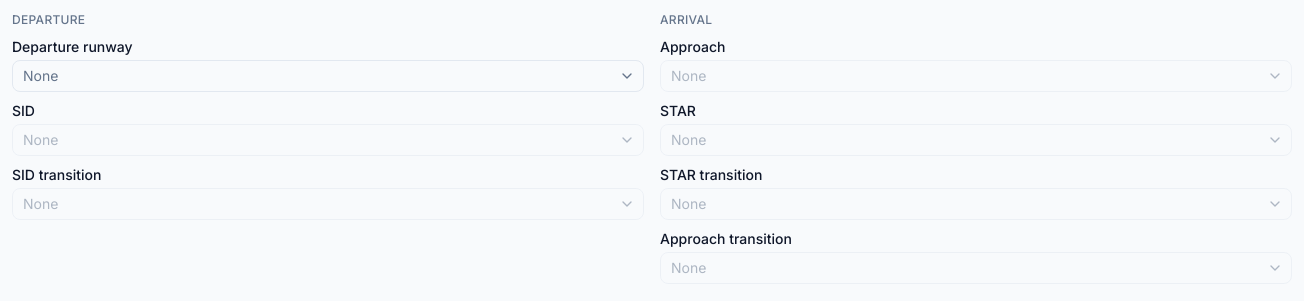
Test: ProcedureSelector › lists departure runways once loaded, and disables the field when there are none
What coordinates should you click on to do the following:
click the dropdown labelled "None" below "Departure runway"
I would click on:
 (41, 76)
Its box is [12,60,644,92].
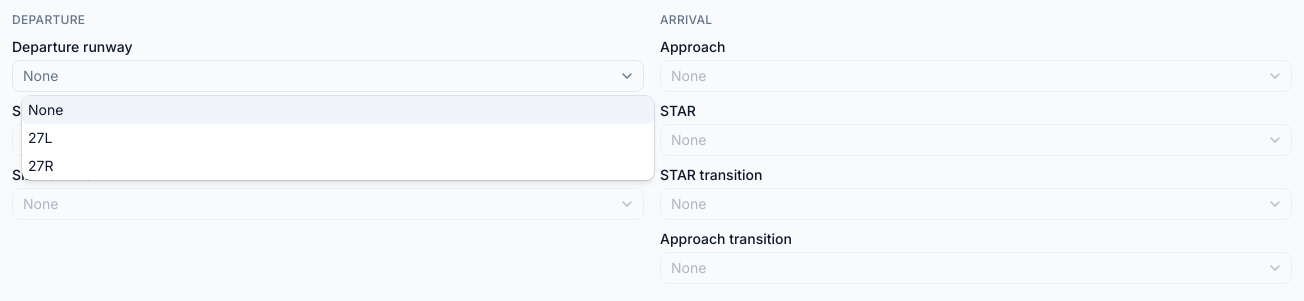
Expected: the option "27L" is shown, [28,129,52,146]
Expected: the option "27R" is shown, [28,157,54,174]
